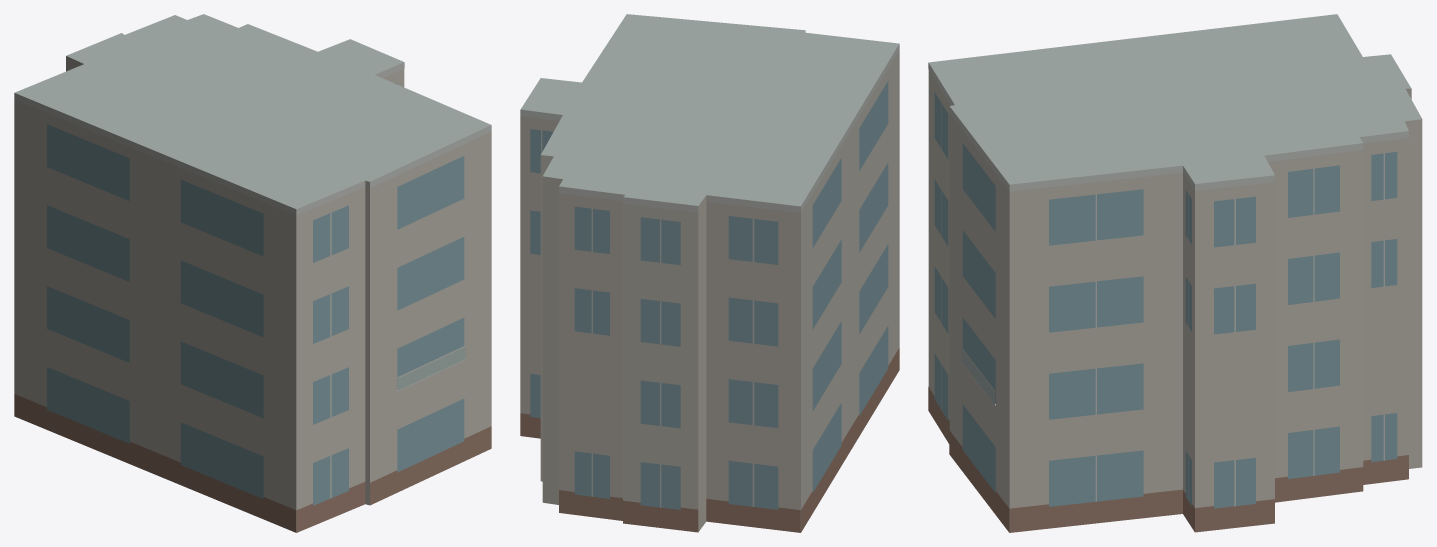
Rendered from survey-upis-32756379.glb.
3 views of the same model, side by side, from view 1: azimuth 30°, elevation 25°; view 2: azimuth 150°, elevation 25°; view 3: azimuth 270°, elevation 25° (orthographic). The views are drawn at different scales.
Parts seen in each view (by area): view 1: survey-upis-32756379.tmp; view 2: survey-upis-32756379.tmp; view 3: survey-upis-32756379.tmp.
Part boxes in pixels (x1,y1,x2,y2): survey-upis-32756379.tmp: [14, 14, 491, 532]; survey-upis-32756379.tmp: [520, 14, 899, 532]; survey-upis-32756379.tmp: [928, 14, 1422, 532].
Size of the model in its own units: 12.88 by 12.25 by 15.76.
